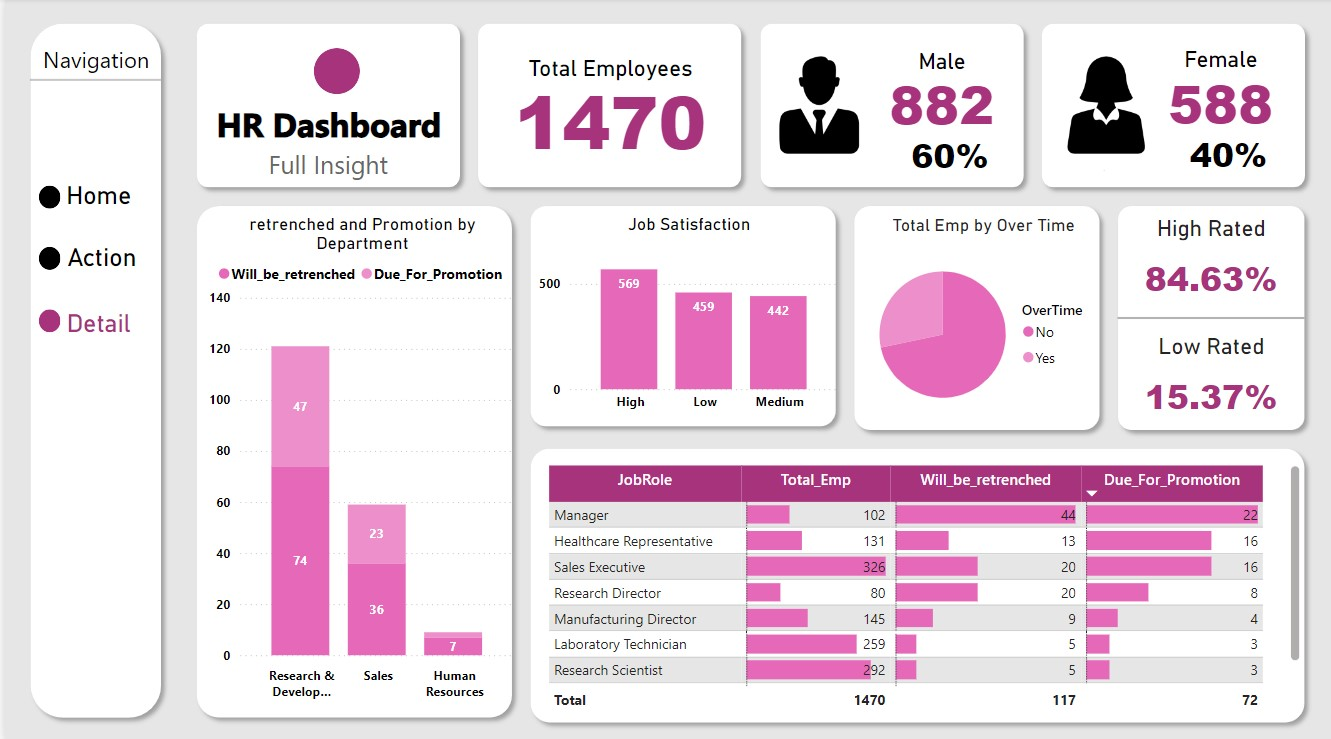

Layout of this report page (visuals, bound fields, positions):
{"tool":"powerbi","page":{"name":"Detail","canvas":[1280,720],"ordinal":2},"visuals":[{"type":"shape","box":[16,16,144,688],"z":0},{"type":"shape","box":[992,16,272,176],"z":1000},{"type":"shape","box":[720,16,272,176],"z":2000},{"type":"shape","box":[448,16,272,176],"z":3000},{"type":"shape","box":[176,16,272,176],"z":4000},{"type":"textbox","box":[191.8,139.9,240.1,48.3],"z":5000},{"type":"shape","box":[298,48.3,44.6,44.6],"z":6000},{"type":"card","title":"Total Employees","fields":{"Values":["All_Measures.Total_Emp"]},"box":[464.5,55.5,240.1,96.5],"z":7000},{"type":"card","title":"Male","fields":{"Values":["All_Measures.Male"]},"box":[832,48,144,80],"z":8000},{"type":"card","title":"Male","fields":{"Values":["All_Measures.% Male"]},"box":[848,96,128,112],"z":9000},{"type":"card","title":"Female","fields":{"Values":["All_Measures.Female"]},"box":[1101.7,46.9,144,80],"z":10000},{"type":"image","box":[727.5,38.6,120.6,133.9],"z":11000},{"type":"image","box":[1001.3,38.6,126.7,133.9],"z":12000},{"type":"textbox","box":[199.1,95.3,240.1,59.1],"z":13000},{"type":"card","title":"Male","fields":{"Values":["All_Measures.% Female"]},"box":[1117.2,95.3,127.9,112.2],"z":14000},{"type":"shape","box":[176.1,191.8,322.1,511.5],"z":15000},{"type":"columnChart","title":"retrenched and Promotion by Department","fields":{"Category":["HR Analytics Data.Department"],"Y":["All_Measures.Will_be_retrenched","All_Measures.Due_For_Promotion"]},"box":[191.8,207.5,306.4,477.8],"z":16000},{"type":"shape","box":[498.3,191.8,312.5,230.4],"z":17000},{"type":"shape","box":[810.7,191.8,254.6,234],"z":18000},{"type":"shape","box":[1065.3,191.8,197.9,234],"z":19000},{"type":"shape","box":[1073.7,288.3,181,41],"z":20000},{"type":"columnChart","title":" Job Satisfaction","fields":{"Category":["HR Analytics Data.Job_Satisfaction"],"Y":["All_Measures.Total_Emp"]},"box":[510.3,207.5,300.4,200.3],"z":21000},{"type":"pieChart","title":"Total Emp by Over Time","fields":{"Y":["All_Measures.Total_Emp"],"Category":["HR Analytics Data.OverTime"]},"box":[824,208.7,241.3,213.5],"z":22000},{"type":"shape","box":[498.3,425.9,764.9,282.3],"z":23000},{"type":"tableEx","fields":{"Values":["HR Analytics Data.JobRole","All_Measures.Total_Emp","All_Measures.Will_be_retrenched","All_Measures.Due_For_Promotion"]},"box":[518.8,446.4,735.9,247.3],"z":24000},{"type":"card","title":"High Rated","fields":{"Values":["All_Measures.% High_Rated"]},"box":[1073.7,209.9,181,98.9],"z":25000},{"type":"card","title":"Low Rated","fields":{"Values":["All_Measures.% Low_Rated"]},"box":[1073.7,323.3,181,98.9],"z":26000},{"type":"actionButton","title":"Home","box":[29,176.1,123.1,30.2],"z":27000},{"type":"actionButton","title":"Action","box":[27.7,236.7,131.5,26.5],"z":28000},{"type":"actionButton","title":"Detail","box":[29,300.4,123.1,29],"z":29000},{"type":"shape","box":[32.4,180.4,21.1,22.4],"z":30000},{"type":"shape","box":[32.4,239.6,21.1,22.4],"z":31000},{"type":"shape","box":[32.4,300.4,21.1,22.4],"z":32000},{"type":"shape","box":[24.1,71.4,126.7,15.7],"z":33000},{"type":"textbox","box":[22.9,39.8,130.3,39.8],"z":34000}]}

Visuals, with their boxes in screenshot pixels (x1, y1, x2, y2), scaled from the page's 1280x720 canvas onto the 1331x739 screenshot:
shape: x1=17 y1=16 x2=166 y2=723
shape: x1=1032 y1=16 x2=1314 y2=197
shape: x1=749 y1=16 x2=1032 y2=197
shape: x1=466 y1=16 x2=749 y2=197
shape: x1=183 y1=16 x2=466 y2=197
textbox: x1=199 y1=144 x2=449 y2=193
shape: x1=310 y1=50 x2=356 y2=95
"Total Employees" card: x1=483 y1=57 x2=733 y2=156
"Male" card: x1=865 y1=49 x2=1015 y2=131
"Male" card: x1=882 y1=99 x2=1015 y2=213
"Female" card: x1=1146 y1=48 x2=1295 y2=130
image: x1=756 y1=40 x2=882 y2=177
image: x1=1041 y1=40 x2=1173 y2=177
textbox: x1=207 y1=98 x2=457 y2=158
"Male" card: x1=1162 y1=98 x2=1295 y2=213
shape: x1=183 y1=197 x2=518 y2=722
"retrenched and Promotion by Department" columnChart: x1=199 y1=213 x2=518 y2=703
shape: x1=518 y1=197 x2=843 y2=433
shape: x1=843 y1=197 x2=1108 y2=437
shape: x1=1108 y1=197 x2=1314 y2=437
shape: x1=1116 y1=296 x2=1305 y2=338
" Job Satisfaction" columnChart: x1=531 y1=213 x2=843 y2=419
"Total Emp by Over Time" pieChart: x1=857 y1=214 x2=1108 y2=433
shape: x1=518 y1=437 x2=1314 y2=727
tableEx - HR Analytics Data.JobRole x All_Measures.Total_Emp: x1=539 y1=458 x2=1305 y2=712
"High Rated" card: x1=1116 y1=215 x2=1305 y2=317
"Low Rated" card: x1=1116 y1=332 x2=1305 y2=433
"Home" actionButton: x1=30 y1=181 x2=158 y2=212
"Action" actionButton: x1=29 y1=243 x2=166 y2=270
"Detail" actionButton: x1=30 y1=308 x2=158 y2=338
shape: x1=34 y1=185 x2=56 y2=208
shape: x1=34 y1=246 x2=56 y2=269
shape: x1=34 y1=308 x2=56 y2=331
shape: x1=25 y1=73 x2=157 y2=89
textbox: x1=24 y1=41 x2=159 y2=82
